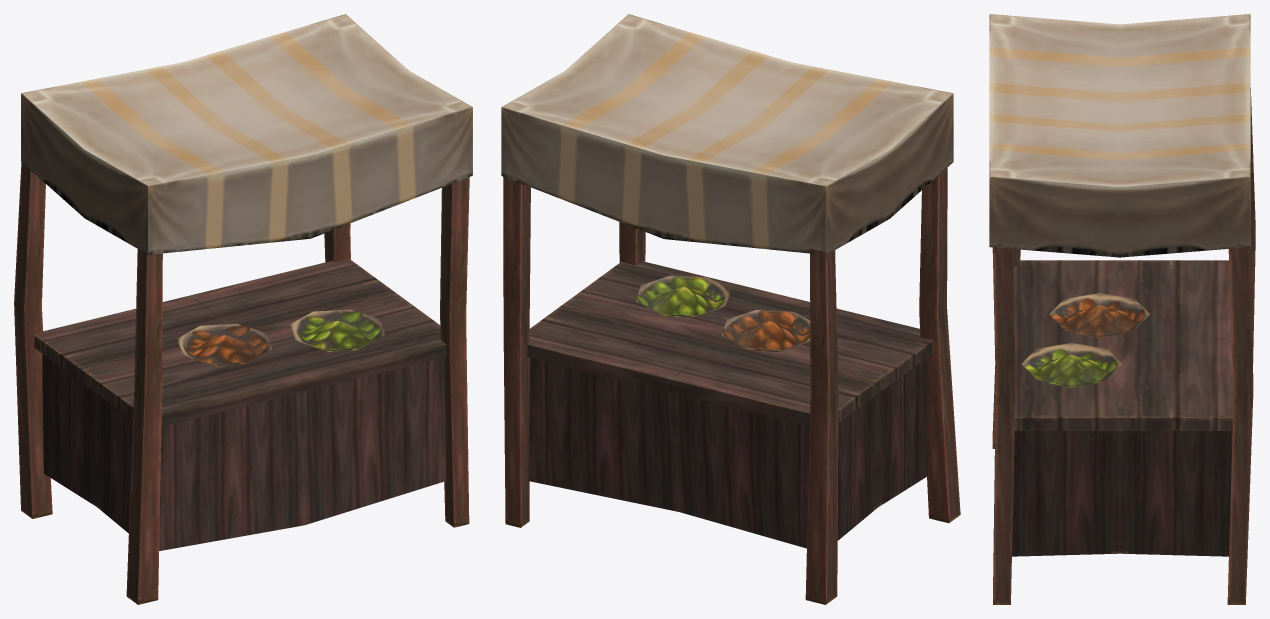
Rendered from Battle04_Market_06.FBX.
3 renders of one model, left to right at view 1: azimuth 30°, elevation 25°; view 2: azimuth 150°, elevation 25°; view 3: azimuth 270°, elevation 25°, orthographic. The views are drawn at different scales.
Visible parts, largest first — view 1: Battle04_Market_06; view 2: Battle04_Market_06; view 3: Battle04_Market_06.
Boxes of the visible parts, x1,y1,x2,y2 form: Battle04_Market_06: [14, 14, 472, 604]; Battle04_Market_06: [501, 14, 960, 604]; Battle04_Market_06: [989, 14, 1255, 604].
Bounding box in the file's own units: 2.62 × 3.14 × 1.77.
